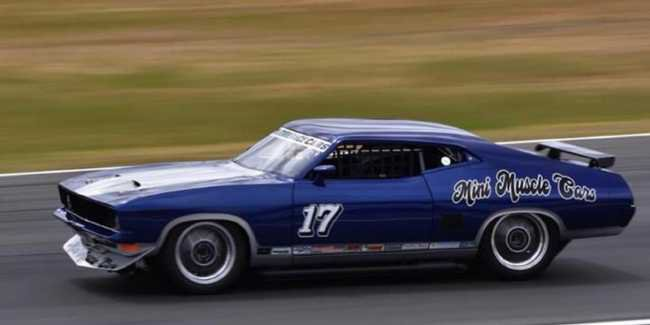car: (54, 117, 635, 293)
